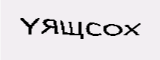И: (90, 16, 121, 52), (34, 24, 49, 38)
Л: (49, 26, 63, 44)
П: (72, 22, 86, 49)
Ф: (61, 24, 71, 46)
